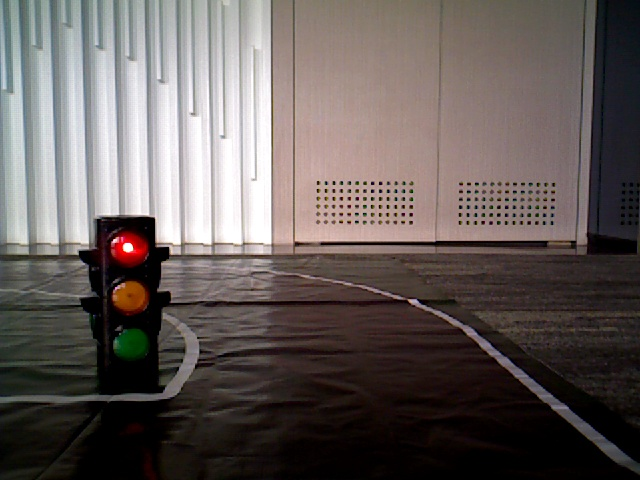red: (97, 219, 155, 369)
